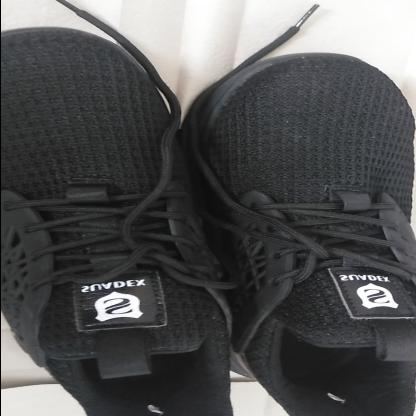safety-shoe: (6, 26, 416, 416)
